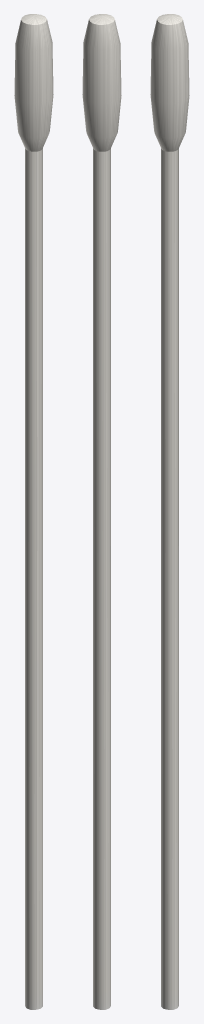
The model's file is SwabOpen.obj.
The picture shows the model from 3 angles, left to right: view 1: azimuth 30°, elevation 25°; view 2: azimuth 150°, elevation 25°; view 3: azimuth 330°, elevation 25°; orthographic projection.
Visible parts, largest first — view 1: Swab; view 2: Swab; view 3: Swab.
Boxes of the visible parts, bbox=[...] form: Swab: bbox=[14, 14, 53, 1009]; Swab: bbox=[82, 14, 121, 1009]; Swab: bbox=[150, 14, 189, 1009].
Size of the model in its own units: 0.0054 by 0.15 by 0.0052.
1 material, 1 textured.
